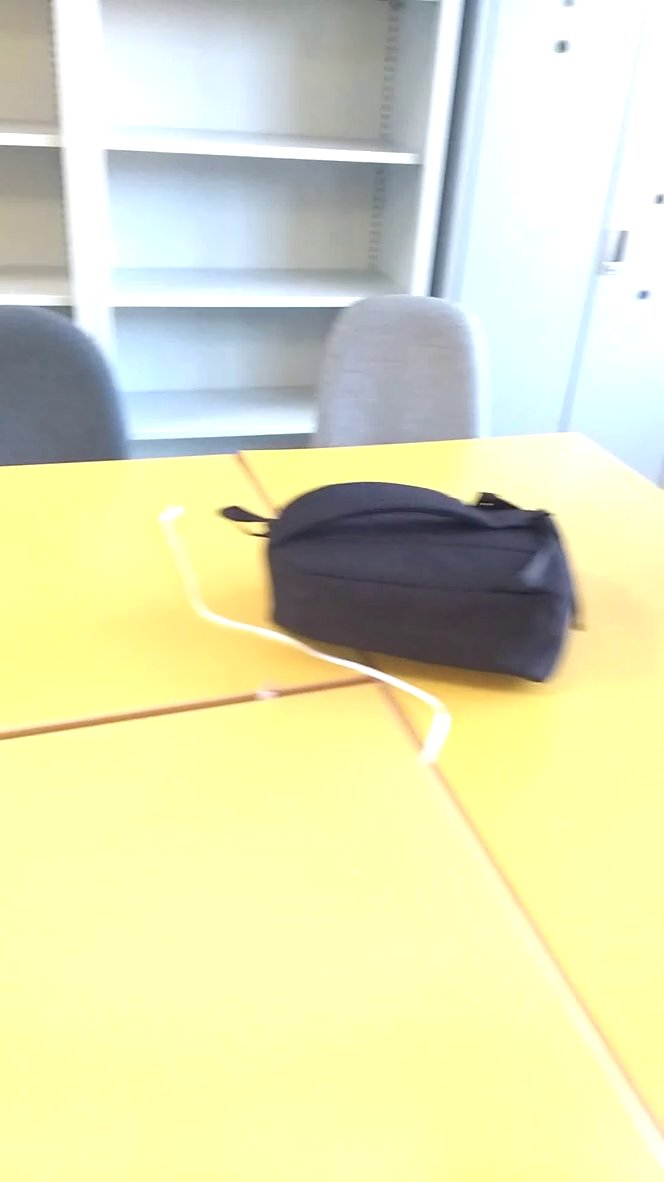bag: (214, 475, 599, 702)
chair: (304, 285, 502, 469)
